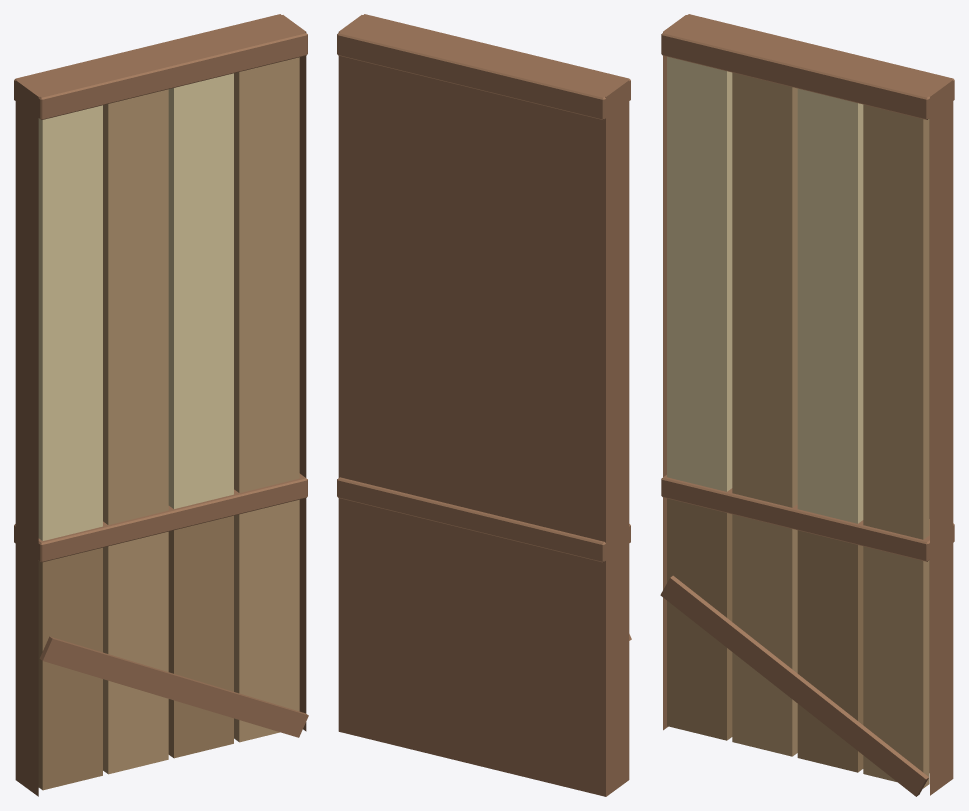
Rendered from kit_wall_wood.glb.
The picture shows the model from 3 angles, left to right: view 1: azimuth 30°, elevation 25°; view 2: azimuth 150°, elevation 25°; view 3: azimuth 330°, elevation 25°; orthographic projection.
Visible parts, largest first — view 1: kit_wall_wood_detail, kit_wall_wood_hero; view 2: kit_wall_wood_detail, kit_wall_wood_hero; view 3: kit_wall_wood_detail, kit_wall_wood_hero.
Boxes of the visible parts, x1,y1,x2,y2 form: kit_wall_wood_detail: [15, 15, 308, 796]; kit_wall_wood_hero: [14, 14, 307, 562]; kit_wall_wood_detail: [338, 15, 631, 796]; kit_wall_wood_hero: [337, 14, 630, 562]; kit_wall_wood_detail: [660, 15, 953, 796]; kit_wall_wood_hero: [661, 14, 954, 561].
Bounding box in the file's own units: 1 × 2.5 × 0.186.
